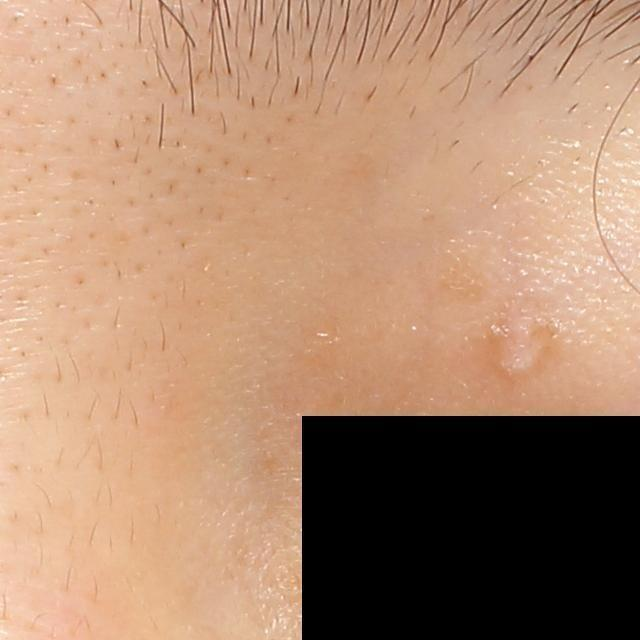other: (484, 289, 574, 388)
